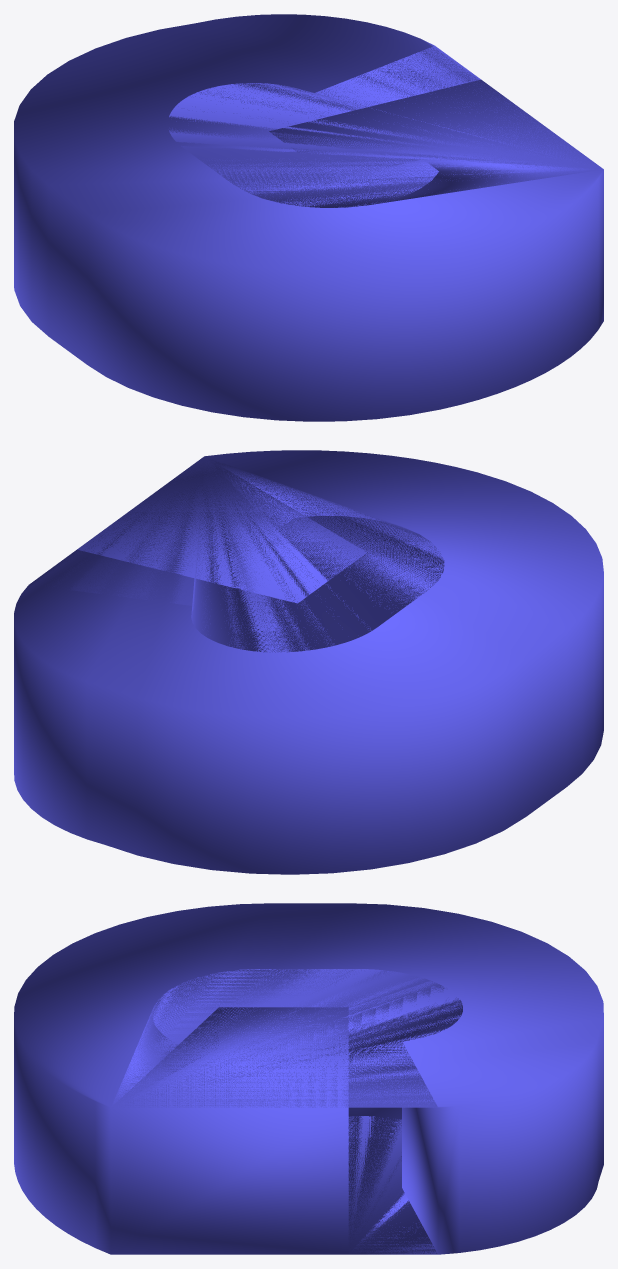
3 renders of one model, top to bottom at view 1: azimuth 30°, elevation 25°; view 2: azimuth 150°, elevation 25°; view 3: azimuth 270°, elevation 25°, orthographic. The views are drawn at different scales.
Visible parts, largest first — view 1: G1; view 2: G1; view 3: G1.
Part boxes in pixels (x1,y1,x2,y2): G1: (14,14,603,421); G1: (14,450,603,874); G1: (14,903,603,1254).
Size of the model in its own units: 17.62 by 5.91 by 21.49.
